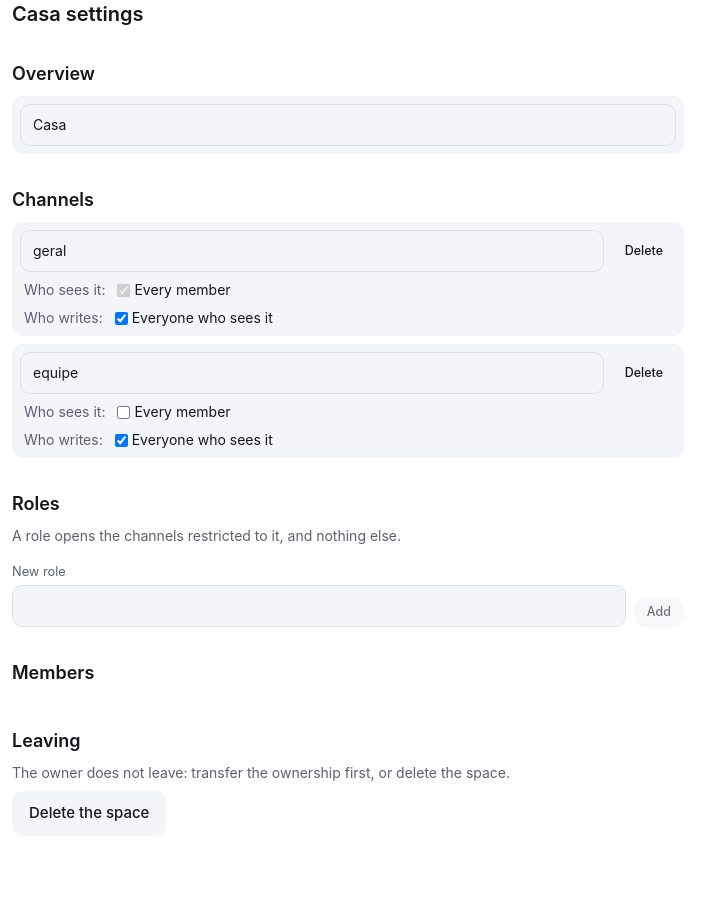
what the space refuses is said in the interface's words
Replace the text in the field named "Name" below "Overview" with "Lar": (348, 125) [20,104,676,146]
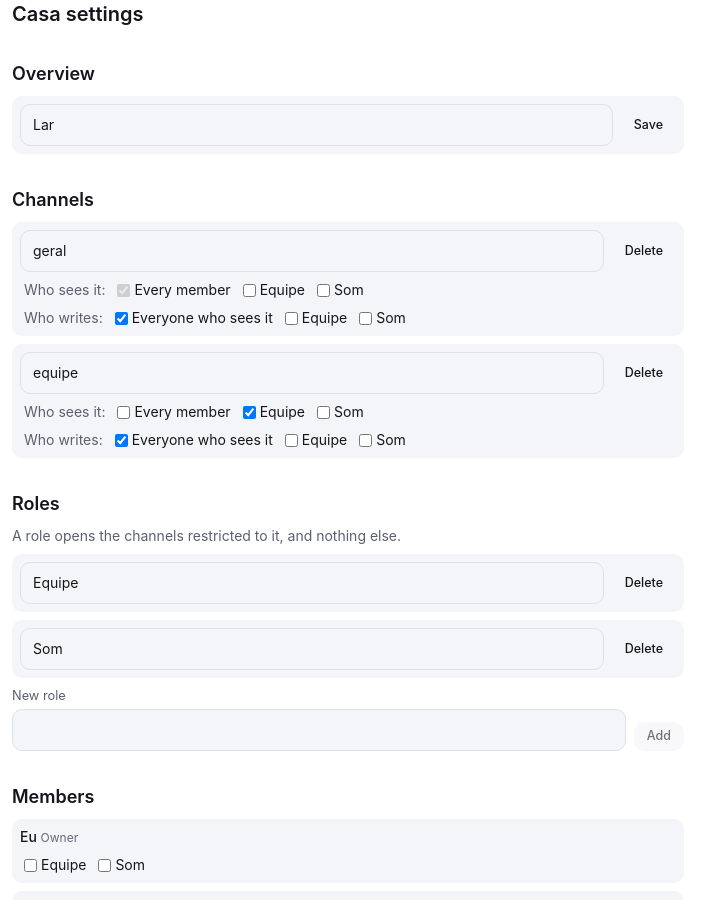
Click the button "Save": click(648, 125) [621,111,676,139]
(page scrolled)
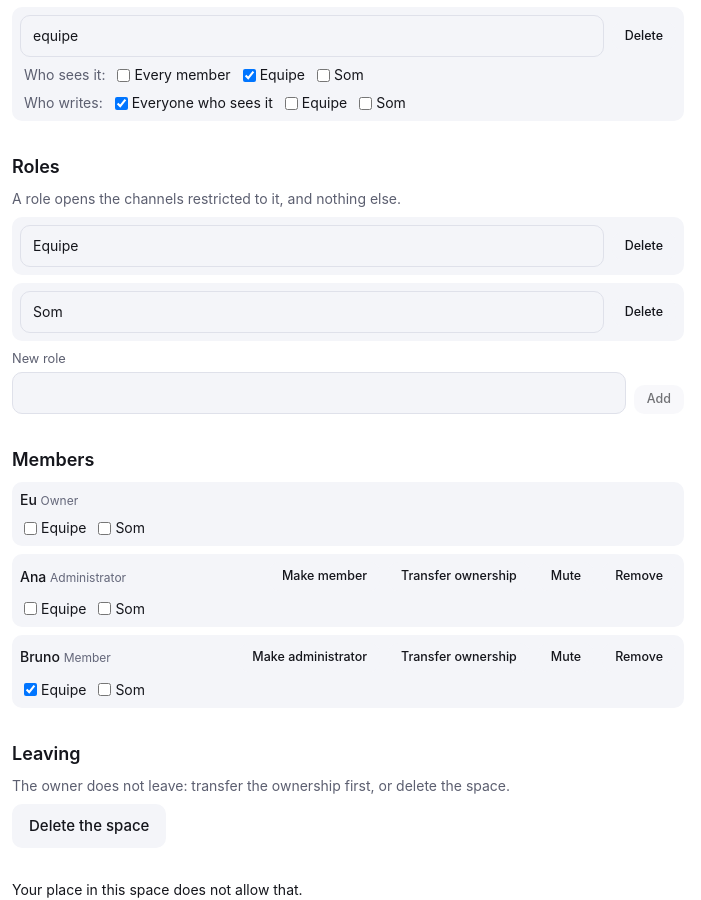
Check: the text "Your place in this space does not allow that." is shown, box [12,881,303,898]
